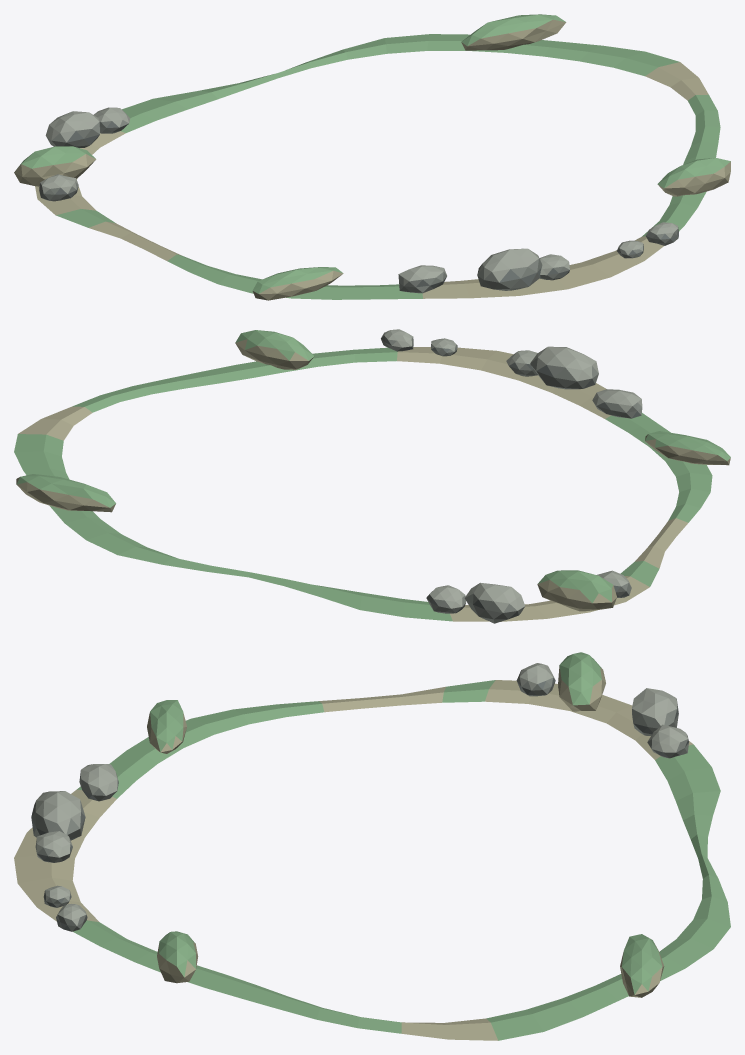
File: PondEdge_Blockout_Detail_v1.glb
The picture shows the model from 3 angles, top to bottom: view 1: azimuth 30°, elevation 25°; view 2: azimuth 150°, elevation 25°; view 3: azimuth 270°, elevation 25°; orthographic projection. The views are drawn at different scales.
Parts seen in each view (by area): view 1: Shore_Base, Bank_Upper_6, Rocks_A_5, Bank_Upper_20, Bank_Upper_42, Bank_Upper_30, Rocks_A_1, Rocks_A_4, Rocks_A_3, Rocks_A_0, Rocks_A_6, Rocks_A_8; view 2: Shore_Base, Bank_Upper_20, Bank_Upper_6, Rocks_A_5, Bank_Upper_42, Bank_Upper_30, Rocks_A_1, Rocks_A_4, Rocks_A_0, Rocks_A_6, Rocks_A_8, Rocks_A_3; view 3: Shore_Base, Bank_Upper_20, Bank_Upper_6, Rocks_A_5, Bank_Upper_42, Rocks_A_1, Bank_Upper_30, Rocks_A_4, Rocks_A_0, Rocks_A_3, Rocks_A_6, Rocks_A_8.
Part boxes in pixels (left/top/right/bottom): Shore_Base: left=35, top=34, right=720, bottom=299; Bank_Upper_6: left=461, top=14, right=566, bottom=50; Rocks_A_5: left=477, top=248, right=542, bottom=290; Bank_Upper_20: left=14, top=146, right=96, bottom=186; Bank_Upper_42: left=657, top=158, right=730, bottom=196; Bank_Upper_30: left=252, top=267, right=343, bottom=300; Rocks_A_1: left=45, top=111, right=100, bottom=147; Rocks_A_4: left=398, top=265, right=446, bottom=293; Rocks_A_3: left=39, top=174, right=78, bottom=201; Rocks_A_0: left=93, top=107, right=130, bottom=133; Rocks_A_6: left=539, top=254, right=569, bottom=280; Rocks_A_8: left=646, top=222, right=678, bottom=245; Shore_Base: left=14, top=347, right=712, bottom=621; Bank_Upper_20: left=537, top=570, right=616, bottom=611; Bank_Upper_6: left=16, top=474, right=115, bottom=512; Rocks_A_5: left=530, top=346, right=598, bottom=389; Bank_Upper_42: left=235, top=330, right=314, bottom=369; Bank_Upper_30: left=645, top=431, right=730, bottom=465; Rocks_A_1: left=464, top=582, right=525, bottom=623; Rocks_A_4: left=592, top=389, right=642, bottom=418; Rocks_A_0: left=426, top=585, right=465, bottom=613; Rocks_A_6: left=506, top=350, right=537, bottom=376; Rocks_A_8: left=381, top=329, right=413, bottom=351; Rocks_A_3: left=597, top=570, right=631, bottom=597; Shore_Base: left=14, top=680, right=730, bottom=1040; Bank_Upper_20: left=558, top=652, right=605, bottom=711; Bank_Upper_6: left=620, top=934, right=664, bottom=997; Rocks_A_5: left=31, top=791, right=85, bottom=840; Bank_Upper_42: left=157, top=931, right=198, bottom=983; Rocks_A_1: left=632, top=688, right=678, bottom=735; Bank_Upper_30: left=147, top=700, right=186, bottom=753; Rocks_A_4: left=79, top=764, right=118, bottom=801; Rocks_A_0: left=647, top=724, right=688, bottom=758; Rocks_A_3: left=516, top=663, right=555, bottom=696; Rocks_A_6: left=35, top=831, right=72, bottom=862; Rocks_A_8: left=56, top=904, right=87, bottom=931.
Bounding box in the file's own units: 27 × 1.68 × 22.6.
